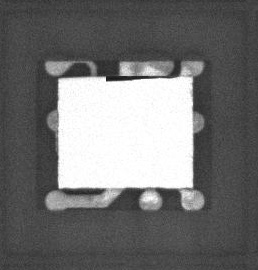DIE_BROKEN: (104, 74, 150, 81)
